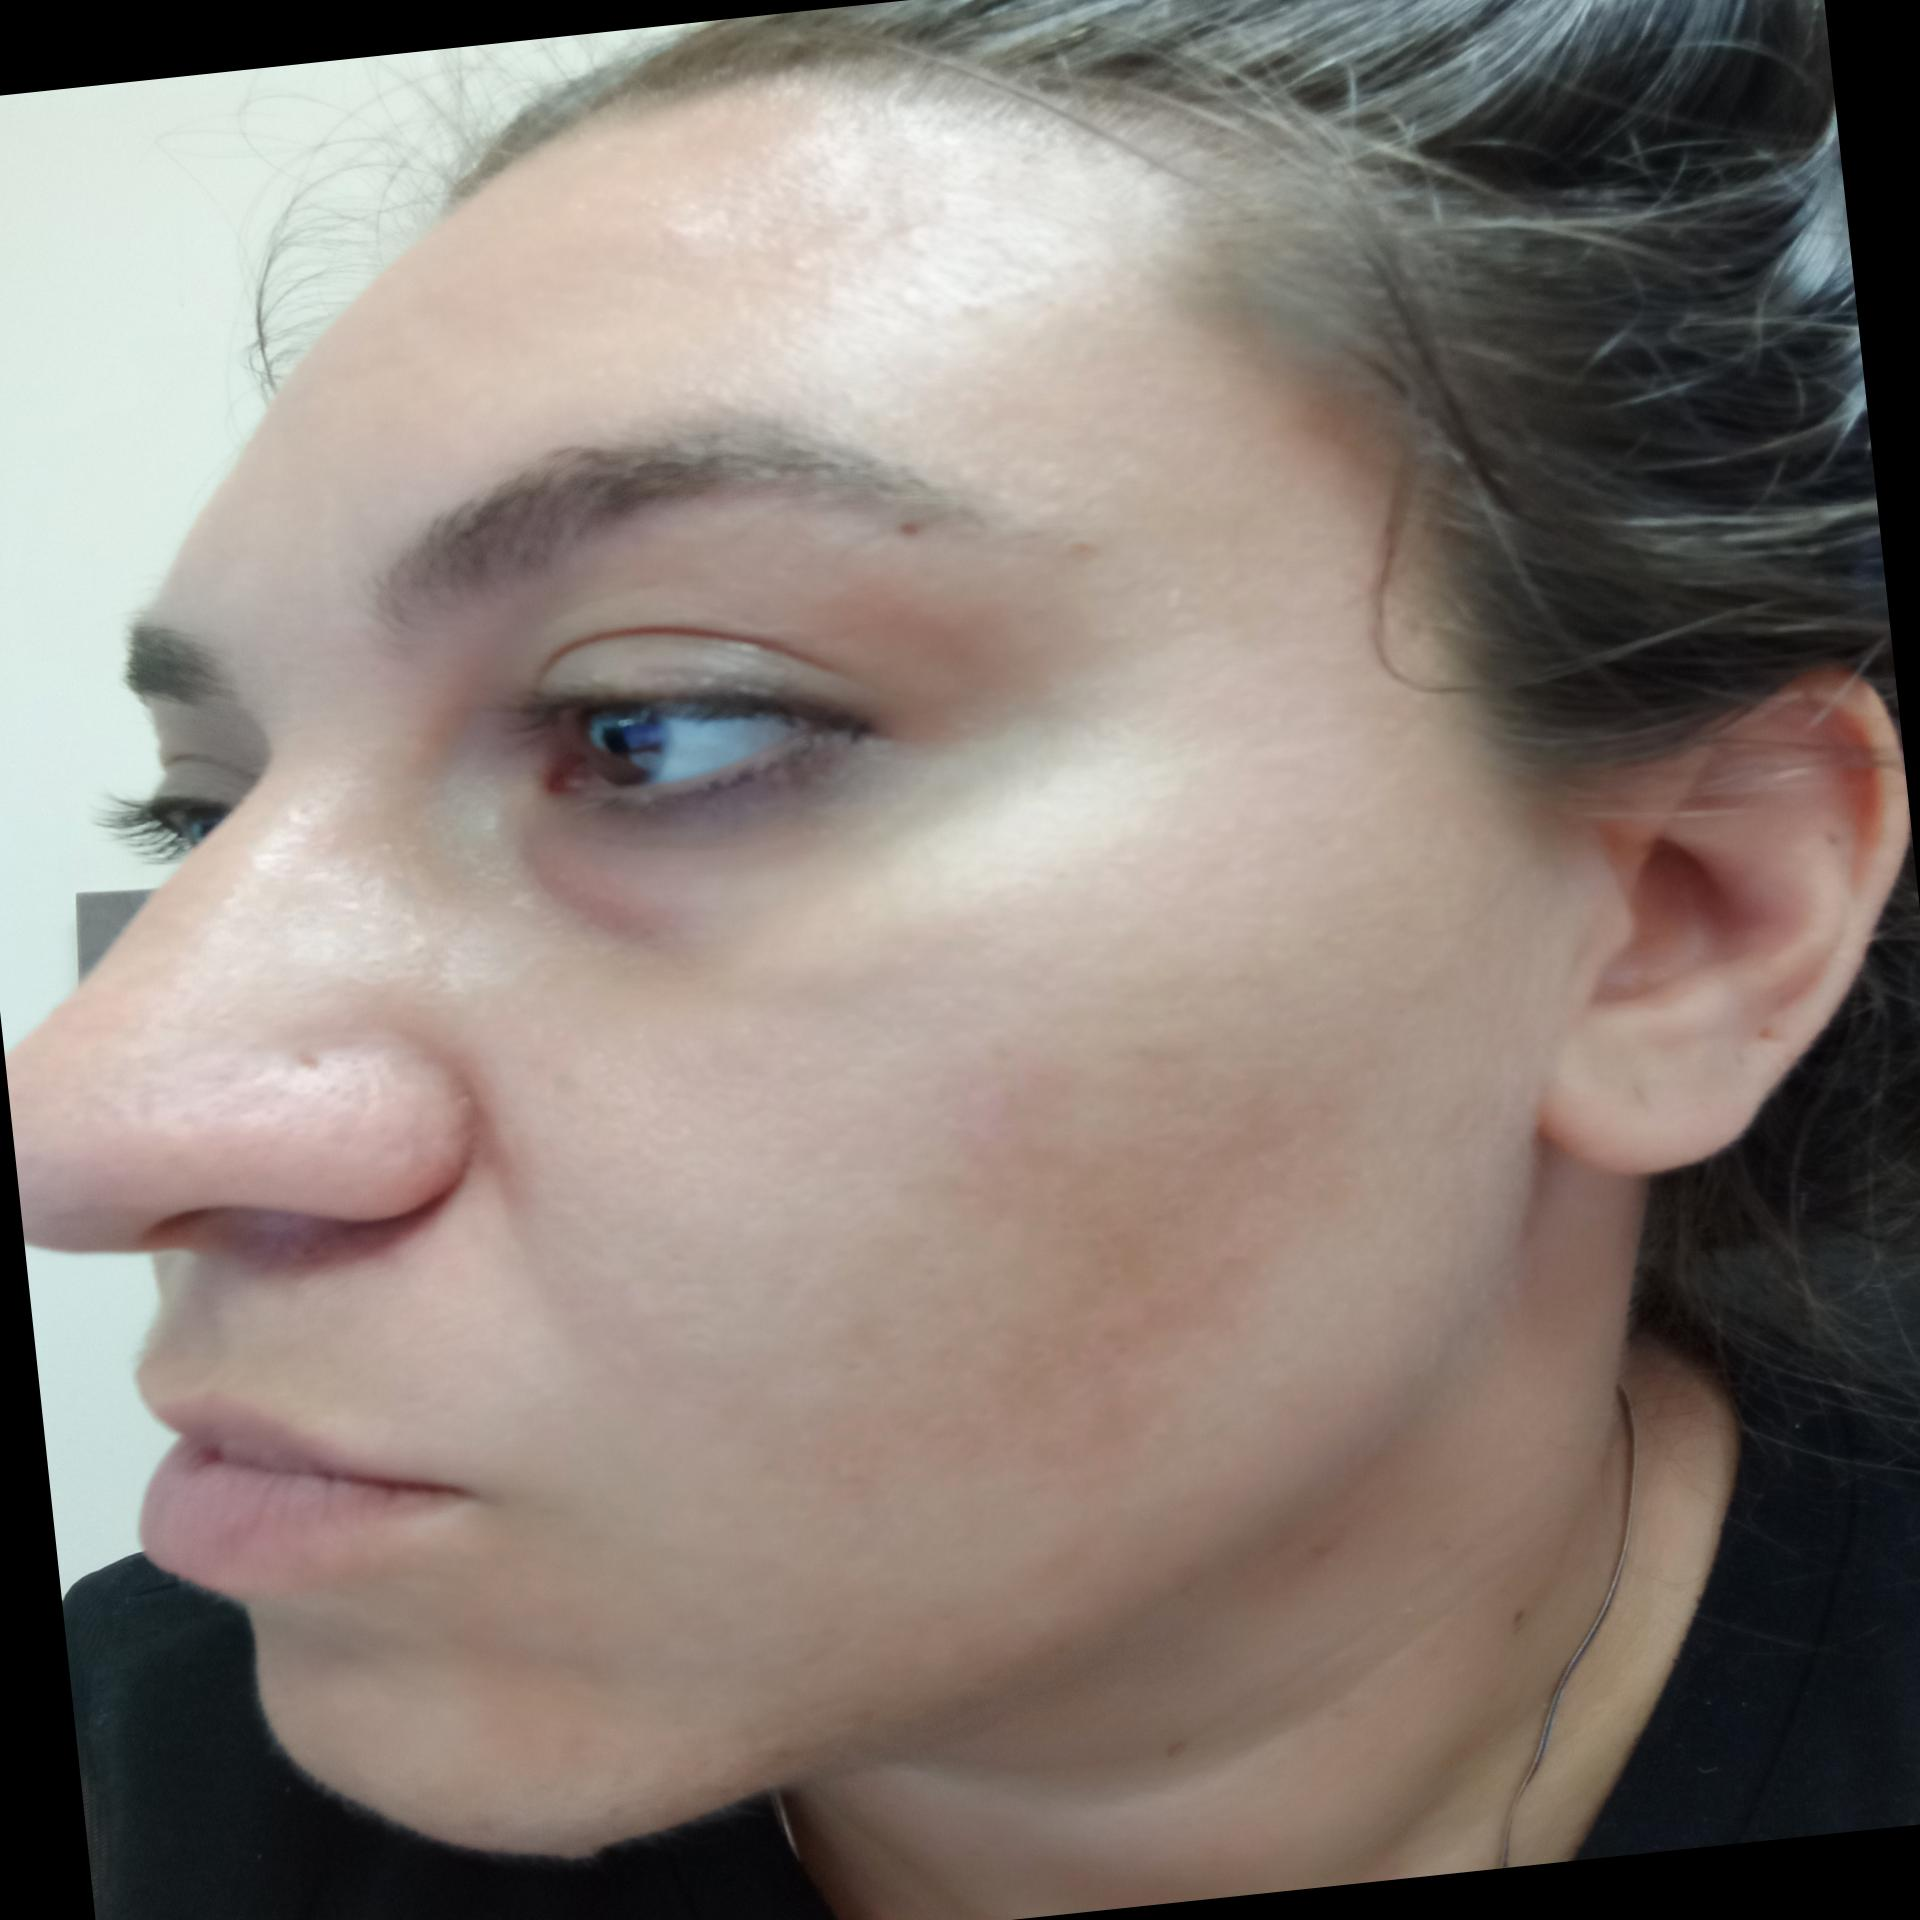Dark Circles: (494, 788, 914, 969)
Englarged Pores: (77, 979, 438, 1176)
